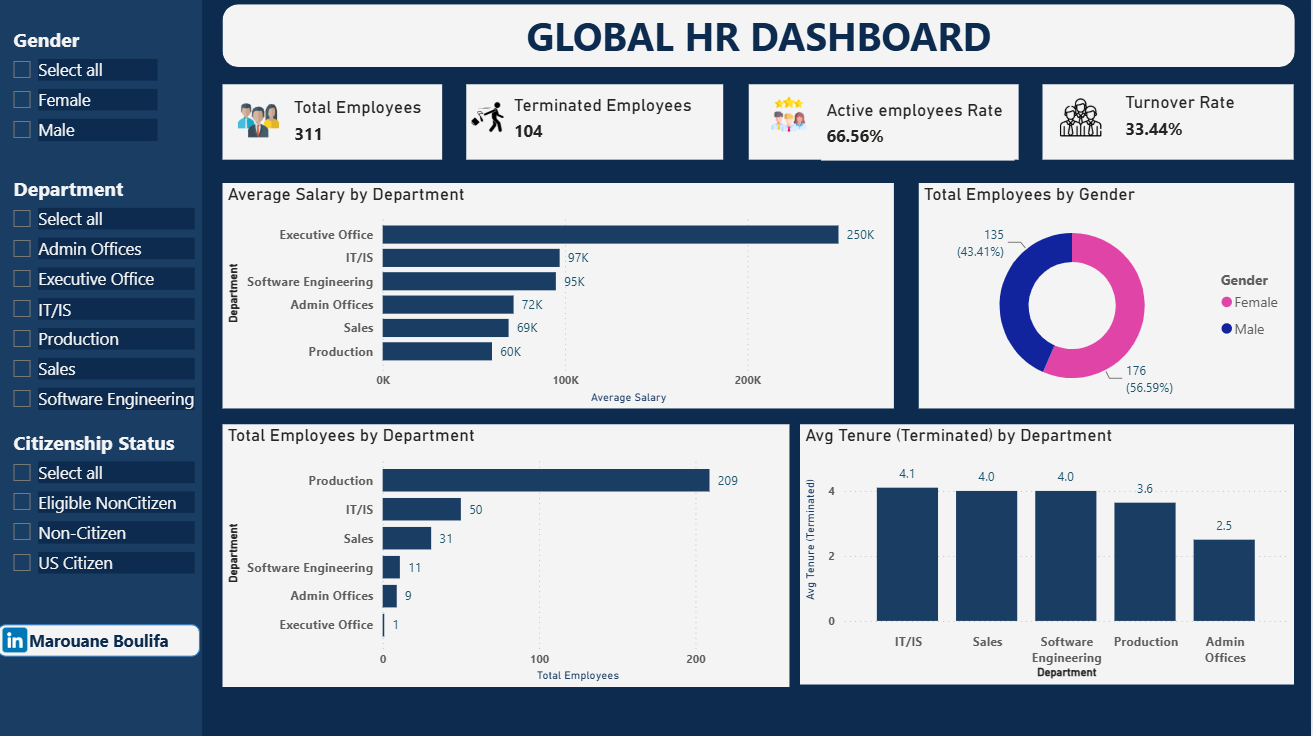

The dashboard page shown, as its layout file describes it:
{"tool":"powerbi","page":{"name":"GLOBAL HR DASHBOARD","canvas":[1280,720],"ordinal":0},"visuals":[{"type":"shape","box":[0,0,209.9,720.2],"z":0,"group":"g1"},{"type":"shape","box":[228.8,11,1035,60.6],"z":0},{"type":"shape","box":[1021.2,88.2,242.6,73],"z":1000},{"type":"slicer","fields":{"Values":["HRDataset_v14.Department"]},"box":[14.5,171.3,193,241.3],"z":1000,"group":"g1"},{"type":"slicer","fields":{"Values":["HRDataset_v14.Gender"]},"box":[14.5,27.7,156.8,142.4],"z":2000,"group":"g1"},{"type":"shape","box":[736.8,88.2,260.5,73],"z":2000},{"type":"shape","box":[464.9,88.2,248.1,73],"z":3000},{"type":"slicer","fields":{"Values":["HRDataset_v14.Citizenship Status"]},"box":[14.5,416.2,193,165.3],"z":3000,"group":"g1"},{"type":"shape","box":[228.8,88.2,212.2,73],"z":4000},{"type":"multiRowCard","title":"Total Employees","fields":{"Values":["HRDataset_v14.Total Employees"]},"box":[293.5,100.6,147.5,51],"z":5000},{"type":"multiRowCard","title":"Active employees Rate","fields":{"Values":["Calendar.Active Employee Rate"]},"box":[807.6,102,186,59.3],"z":6000},{"type":"multiRowCard","title":"Terminated Employees","fields":{"Values":["Calendar.Terminated Employees"]},"box":[505.5,97.7,191.8,57.9],"z":7000},{"type":"multiRowCard","title":"Turnover Rate","fields":{"Values":["Calendar.Turnover Rate"]},"box":[1095.6,95.1,157.1,57.9],"z":8000},{"type":"barChart","fields":{"Y":["HRDataset_v14.Total Employees"],"Category":["HRDataset_v14.Department"]},"box":[228.8,416.2,547.1,253.6],"z":9000},{"type":"donutChart","fields":{"Category":["HRDataset_v14.Sex"],"Y":["HRDataset_v14.Total Employees"]},"box":[901.3,183.3,362.4,217.7],"z":10000},{"type":"barChart","fields":{"Category":["HRDataset_v14.Department"],"Y":["Calendar.Average Salary"]},"box":[228.8,183.3,647.7,217.7],"z":11000},{"type":"columnChart","fields":{"Y":["Calendar.Avg Tenure (Terminated)"],"Category":["HRDataset_v14.Department"]},"box":[786.9,416.2,476.8,250.8],"z":12000},{"type":"image","box":[238.4,97.8,51,51],"z":13000},{"type":"image","box":[1032.7,94.1,49.5,51.9],"z":14000},{"type":"image","box":[753.8,92.3,44.1,48.2],"z":15000},{"type":"image","box":[464.5,92.9,41,53.1],"z":16000},{"type":"group","id":"g1","title":"Slicer Pane","box":[0,0,209.9,720.2],"z":17000},{"type":"shape","box":[12.1,609.3,195.4,31.4],"z":18000},{"type":"image","box":[12.1,606.8,33.8,35],"z":19000}]}

Visuals, with their boxes in screenshot pixels (x1, y1, x2, y2), scaled from the page's 1280x720 canvas onto the 1313x736 screenshot:
shape: BBox(0, 0, 215, 735)
shape: BBox(235, 11, 1296, 73)
shape: BBox(1048, 90, 1296, 165)
slicer - HRDataset_v14.Department: BBox(15, 175, 213, 422)
slicer - HRDataset_v14.Gender: BBox(15, 28, 176, 174)
shape: BBox(756, 90, 1023, 165)
shape: BBox(477, 90, 731, 165)
slicer - HRDataset_v14.Citizenship Status: BBox(15, 425, 213, 594)
shape: BBox(235, 90, 452, 165)
"Total Employees" multiRowCard: BBox(301, 103, 452, 155)
"Active employees Rate" multiRowCard: BBox(828, 104, 1019, 165)
"Terminated Employees" multiRowCard: BBox(519, 100, 715, 159)
"Turnover Rate" multiRowCard: BBox(1124, 97, 1285, 156)
barChart - HRDataset_v14.Total Employees x HRDataset_v14.Department: BBox(235, 425, 796, 685)
donutChart - HRDataset_v14.Sex x HRDataset_v14.Total Employees: BBox(925, 187, 1296, 410)
barChart - HRDataset_v14.Department x Calendar.Average Salary: BBox(235, 187, 899, 410)
columnChart - Calendar.Avg Tenure (Terminated) x HRDataset_v14.Department: BBox(807, 425, 1296, 682)
image: BBox(245, 100, 297, 152)
image: BBox(1059, 96, 1110, 149)
image: BBox(773, 94, 818, 144)
image: BBox(476, 95, 519, 149)
"Slicer Pane" group: BBox(0, 0, 215, 735)
shape: BBox(12, 623, 213, 655)
image: BBox(12, 620, 47, 656)
